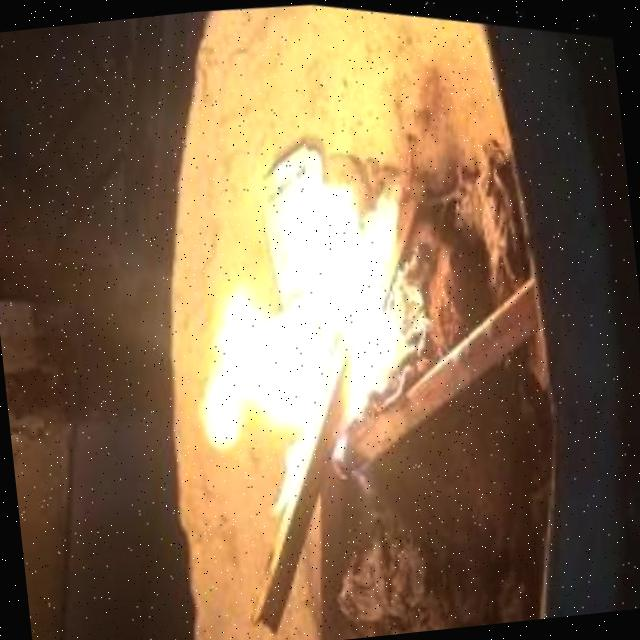fire: (171, 128, 456, 465)
